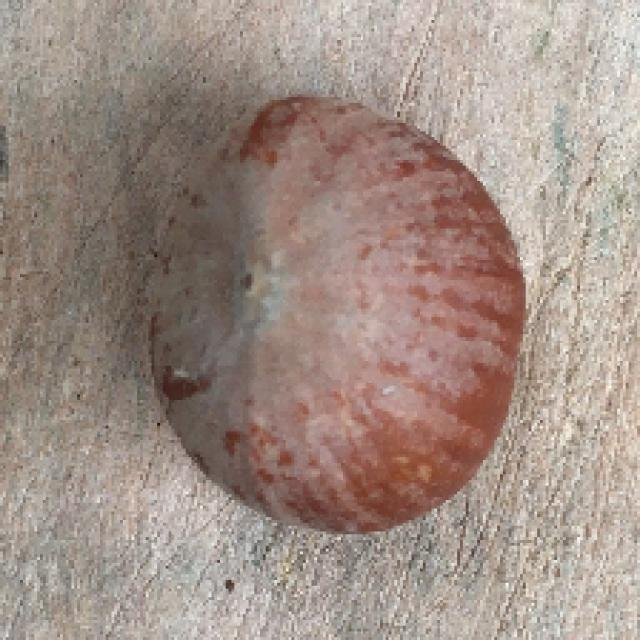qualityHazelnut: (138, 88, 526, 540)
